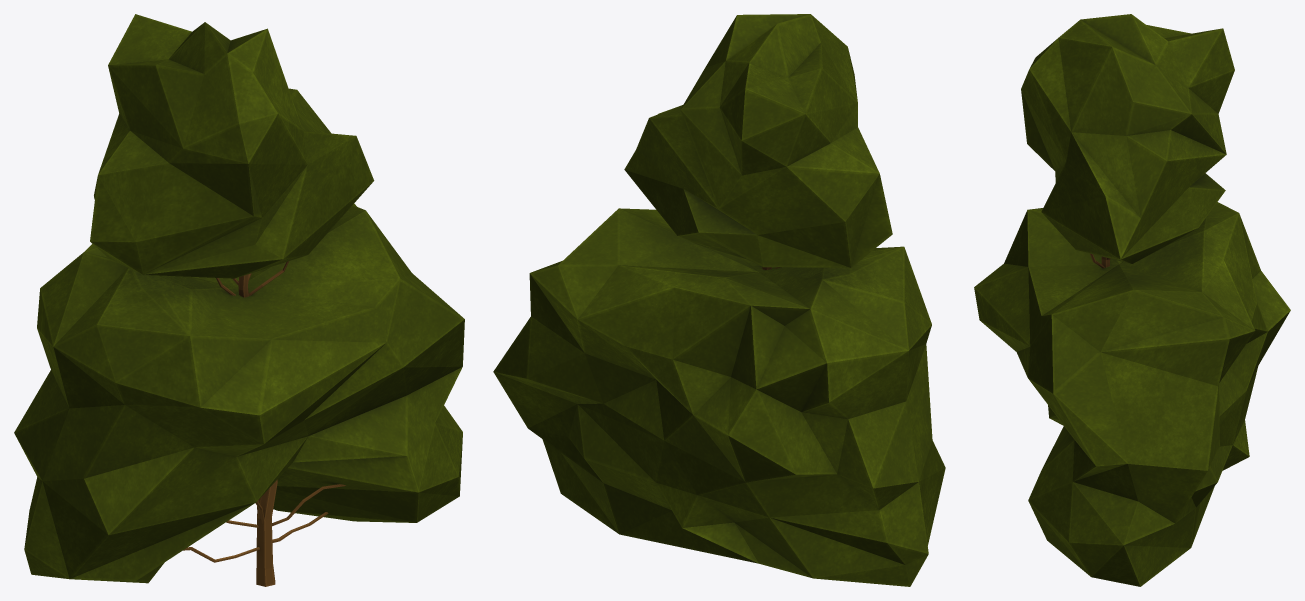
The model's file is 52c1b88d-6f65-427b-98ba-ef5f6779adba.glb.
The picture shows the model from 3 angles, left to right: view 1: azimuth 30°, elevation 25°; view 2: azimuth 150°, elevation 25°; view 3: azimuth 270°, elevation 25°; orthographic projection. The views are drawn at different scales.
Visible parts, largest first — view 1: AlderTree_mesh; view 2: AlderTree_mesh; view 3: AlderTree_mesh.
Boxes of the visible parts, x1,y1,x2,y2 form: AlderTree_mesh: (14,14,464,586); AlderTree_mesh: (493,14,945,586); AlderTree_mesh: (974,14,1290,586).
Size of the model in its own units: 8.65 by 10.99 by 6.27.
Materials: 1 (1 with a texture image).
